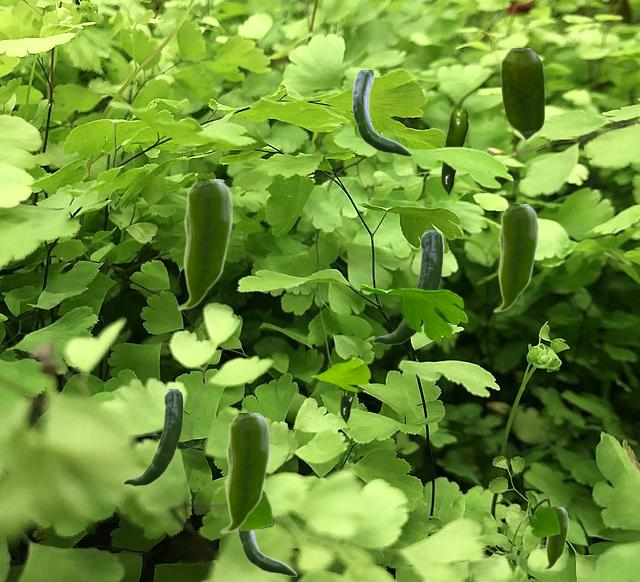green_chili: (372, 230, 443, 344), (176, 179, 231, 310), (219, 413, 269, 533), (123, 389, 183, 485), (352, 70, 411, 155), (492, 204, 537, 312), (500, 48, 544, 139), (237, 530, 296, 575), (441, 109, 467, 194), (542, 507, 567, 569), (340, 355, 360, 422)
